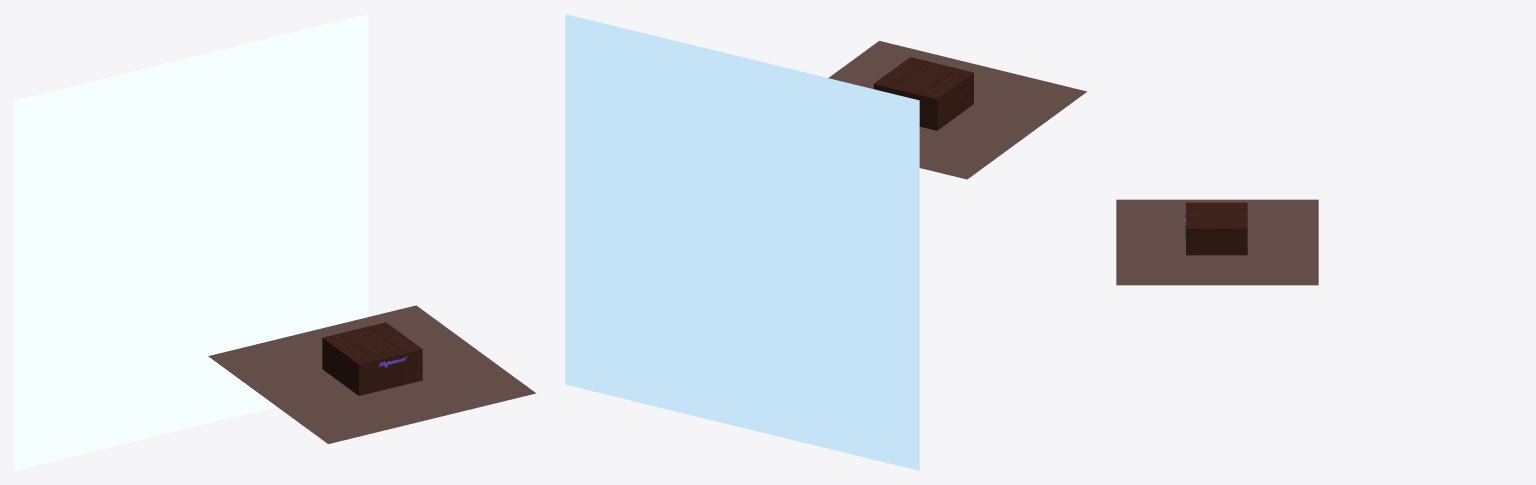
File: mystery_door.glb
The picture shows the model from 3 angles, left to right: view 1: azimuth 30°, elevation 25°; view 2: azimuth 150°, elevation 25°; view 3: azimuth 270°, elevation 25°; orthographic projection. The views are drawn at different scales.
Visible parts, largest first — view 1: sky, gnd, mysterious_house; view 2: sky, gnd, mysterious_house; view 3: gnd, mysterious_house.
Boxes of the visible parts, <box> form: sky: <box>14,14,368,470</box>; gnd: <box>208,305,535,443</box>; mysterious_house: <box>322,322,422,395</box>; sky: <box>565,14,919,470</box>; gnd: <box>828,41,1086,179</box>; mysterious_house: <box>873,57,973,130</box>; gnd: <box>1116,199,1318,285</box>; mysterious_house: <box>1186,202,1247,255</box>.
Size of the model in its own units: 47.12 by 47.12 by 55.51.
Materials: 4 (1 with a texture image).
